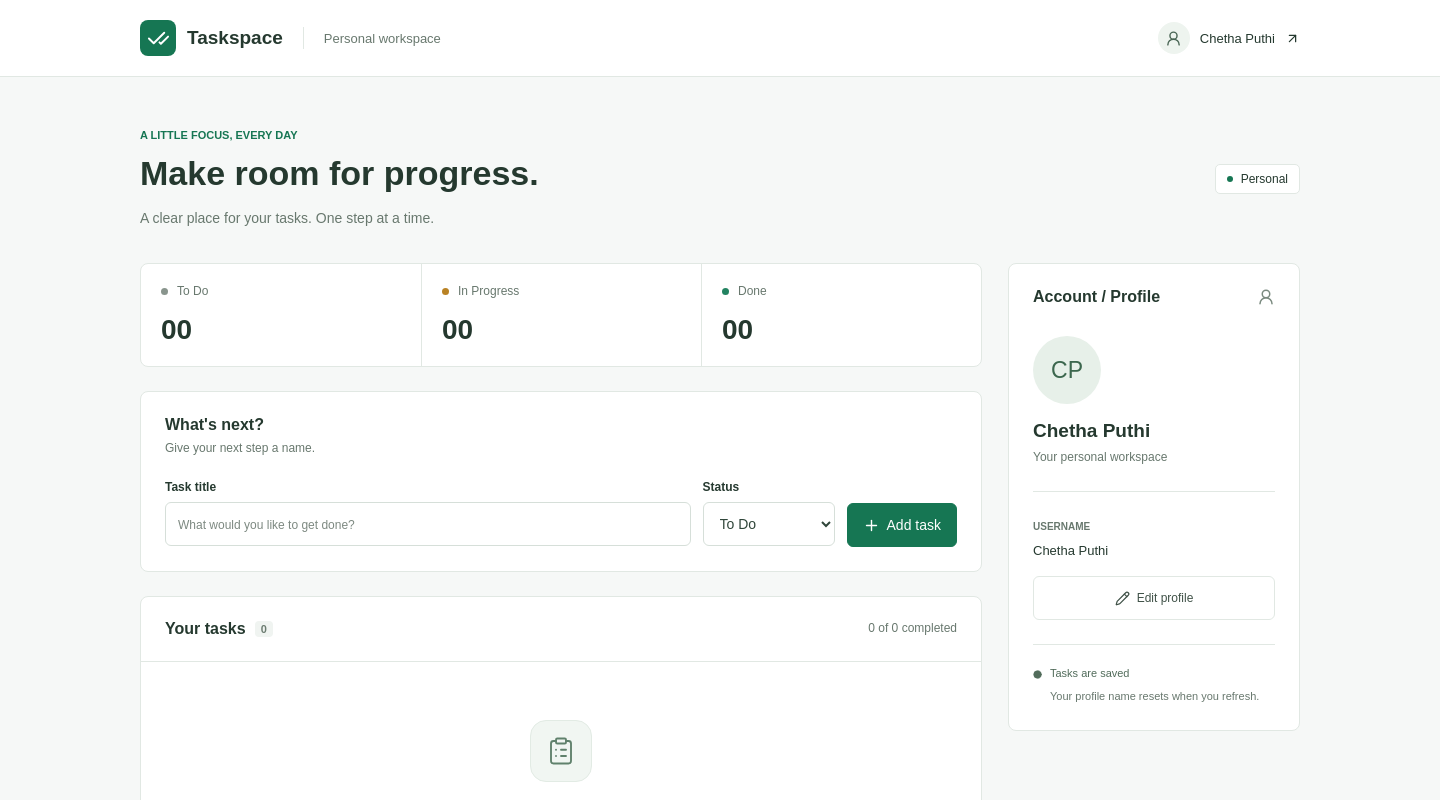
Test: Todo workspace › creates and reads a trimmed task with status To Do
expect the button "Add task" is enabled: met, box [846,503,957,547]
Click the field labelled "Task title": (428, 524) [165,502,690,546]
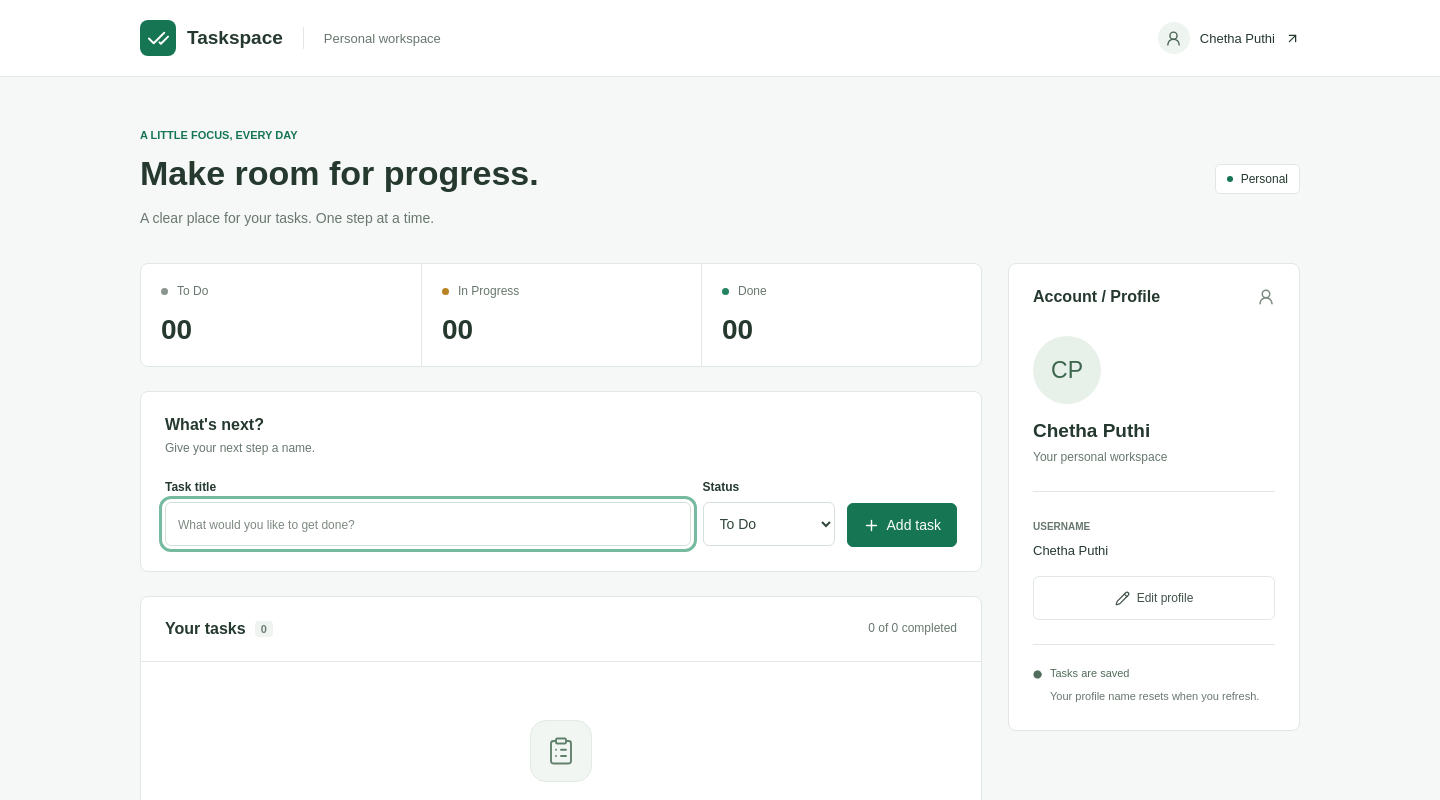
Type keys "  Learn React  "
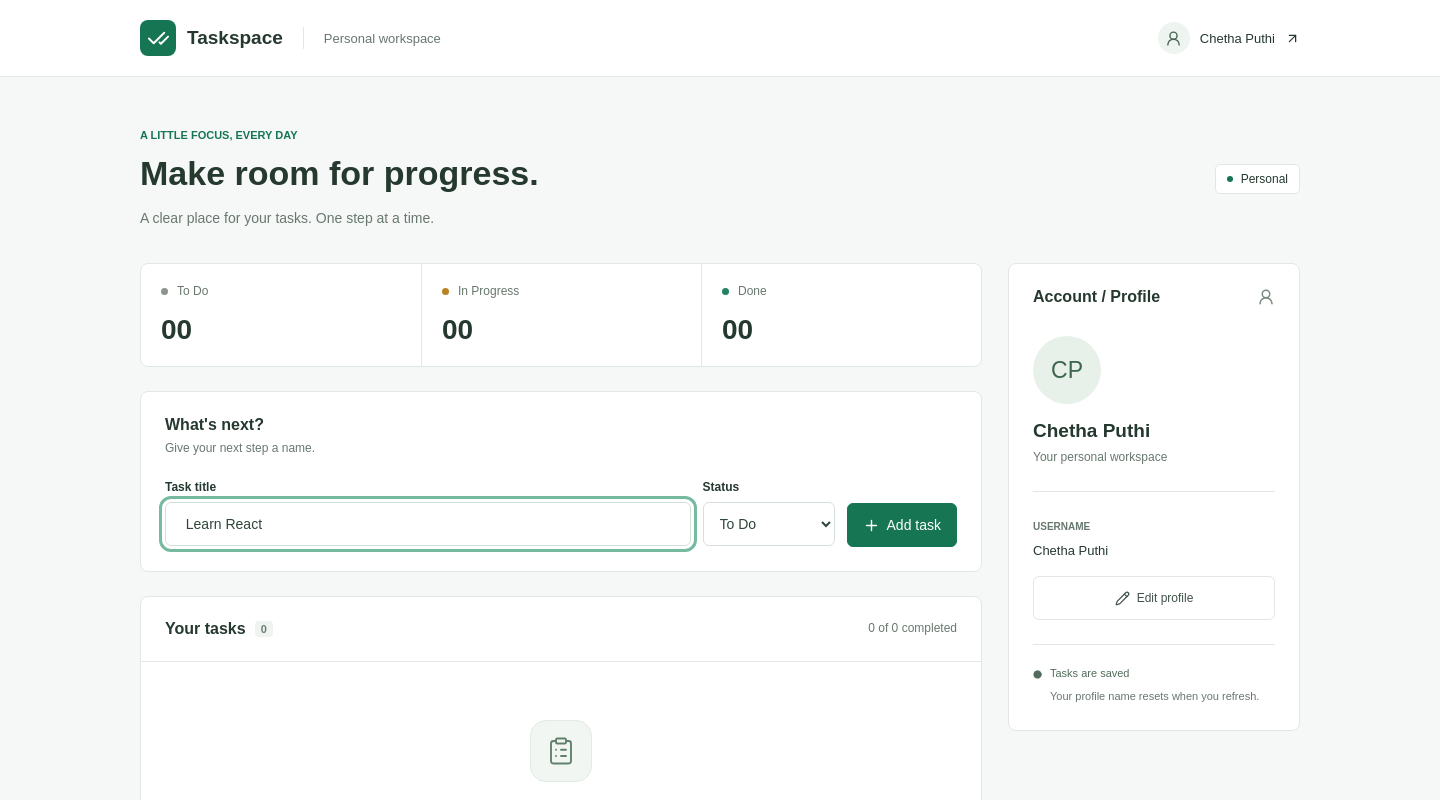
Select "To Do" in the dropdown labelled "Status": (768, 524) [702,502,834,546]
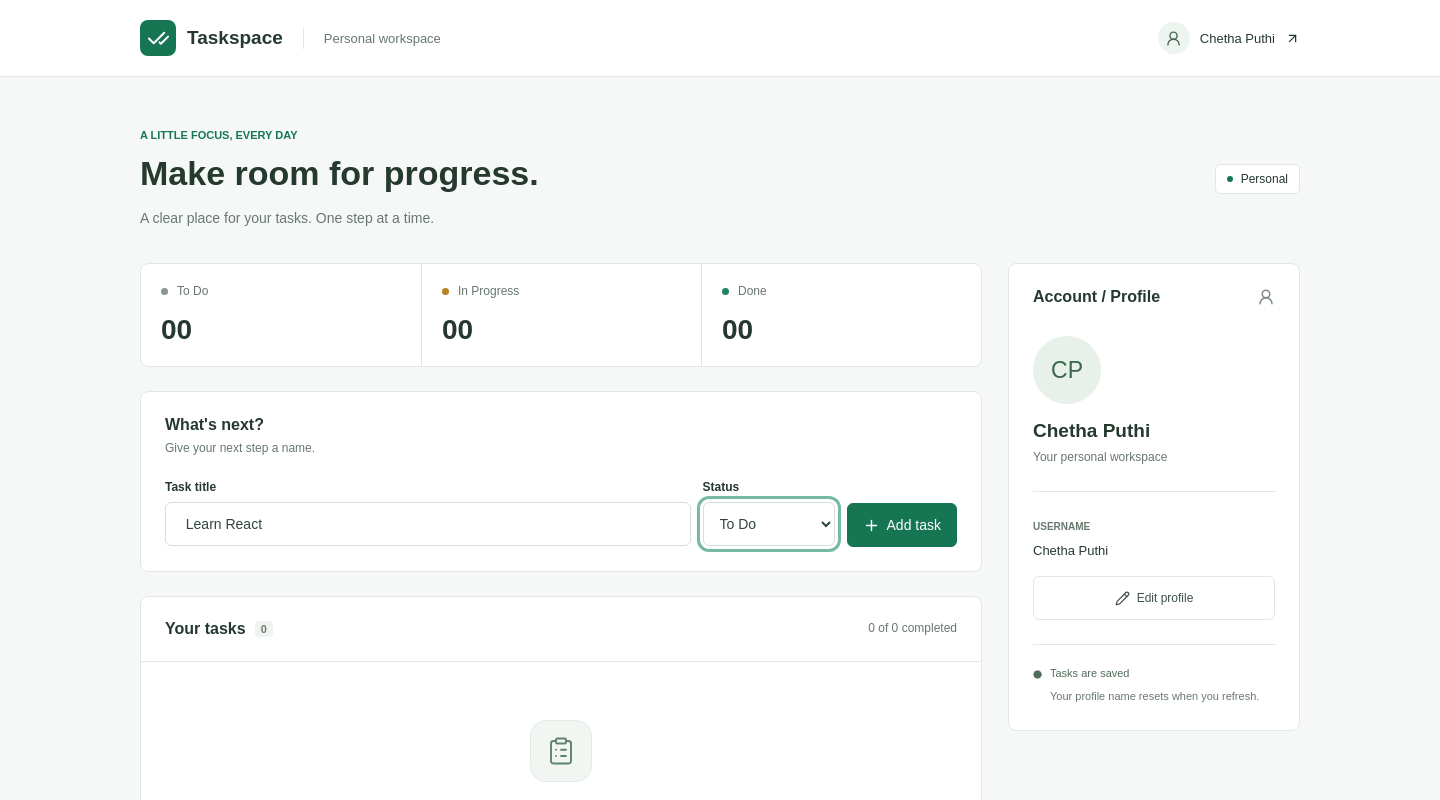
Click the button "Add task": (902, 525) [846,503,957,547]
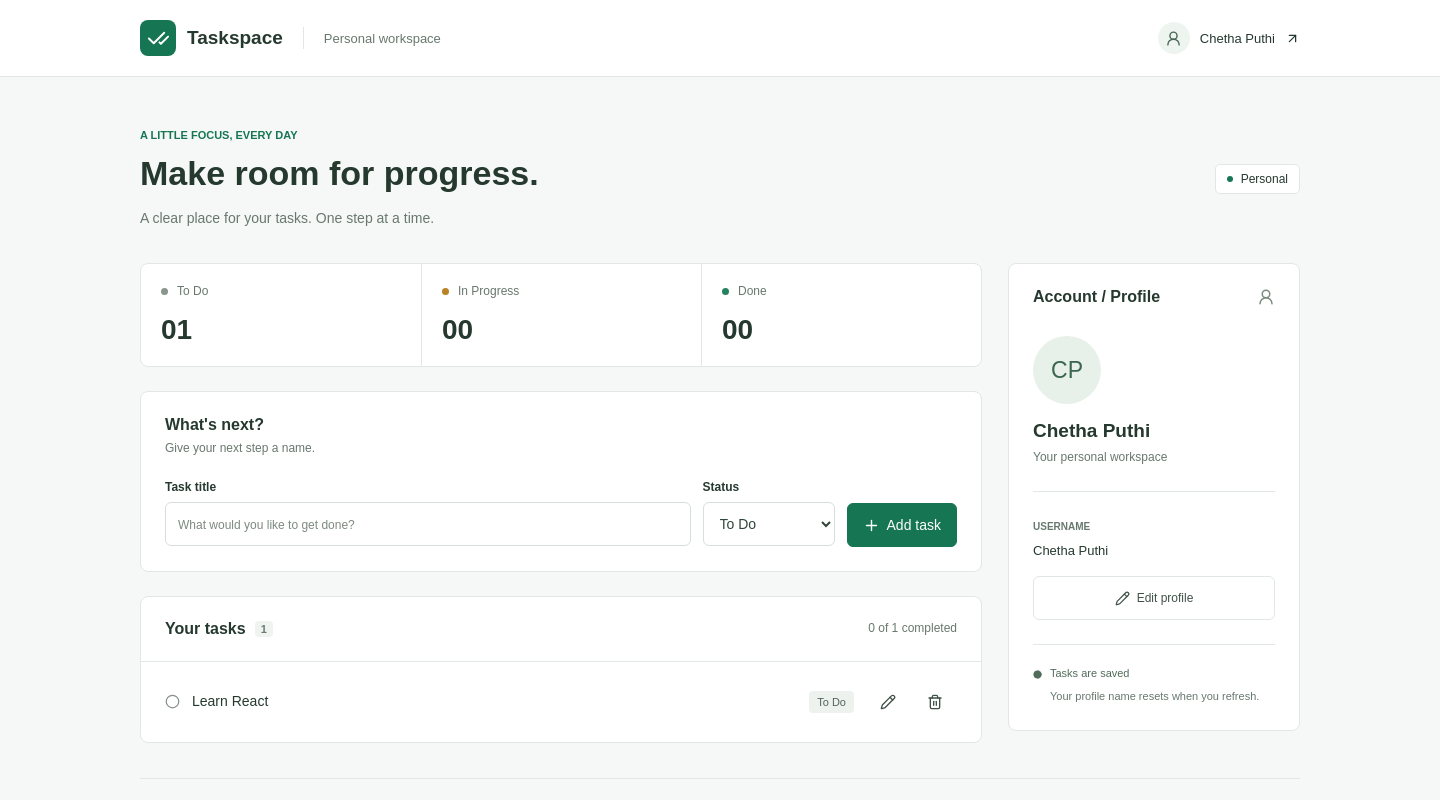
expect the text "Learn React" is shown: met, box [192,693,268,709]
expect the text "To Do" in the row of "Learn React" is shown: met, box [817,696,846,708]
expect the field labelled "Task title" is empty: met, box [165,502,690,546]
